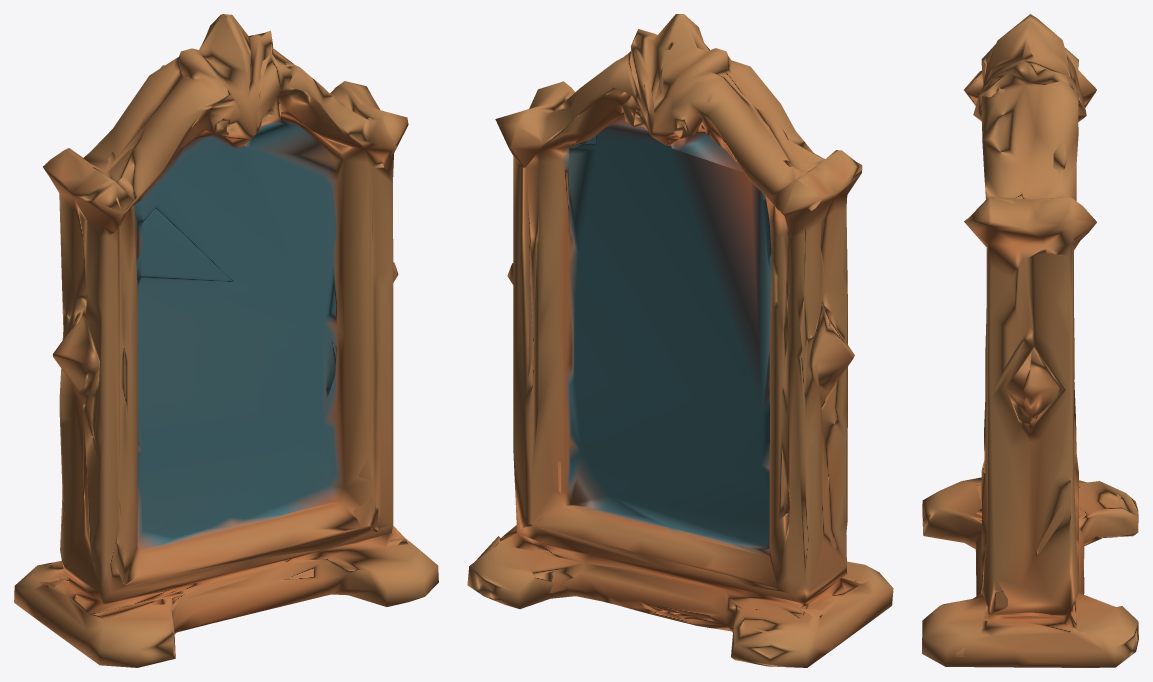
The model's file is gen3d-magic-mirror-lod0.glb.
3 renders of one model, left to right at view 1: azimuth 30°, elevation 25°; view 2: azimuth 150°, elevation 25°; view 3: azimuth 270°, elevation 25°, orthographic.
Parts seen in each view (by area): view 1: part_0; view 2: part_0; view 3: part_0.
Boxes of the visible parts, x1=… form: part_0: x1=14, y1=14, x2=438, y2=667; part_0: x1=467, y1=14, x2=893, y2=667; part_0: x1=922, y1=14, x2=1138, y2=667.
Bounding box in the file's own units: 0.6207 × 0.9952 × 0.3423.
